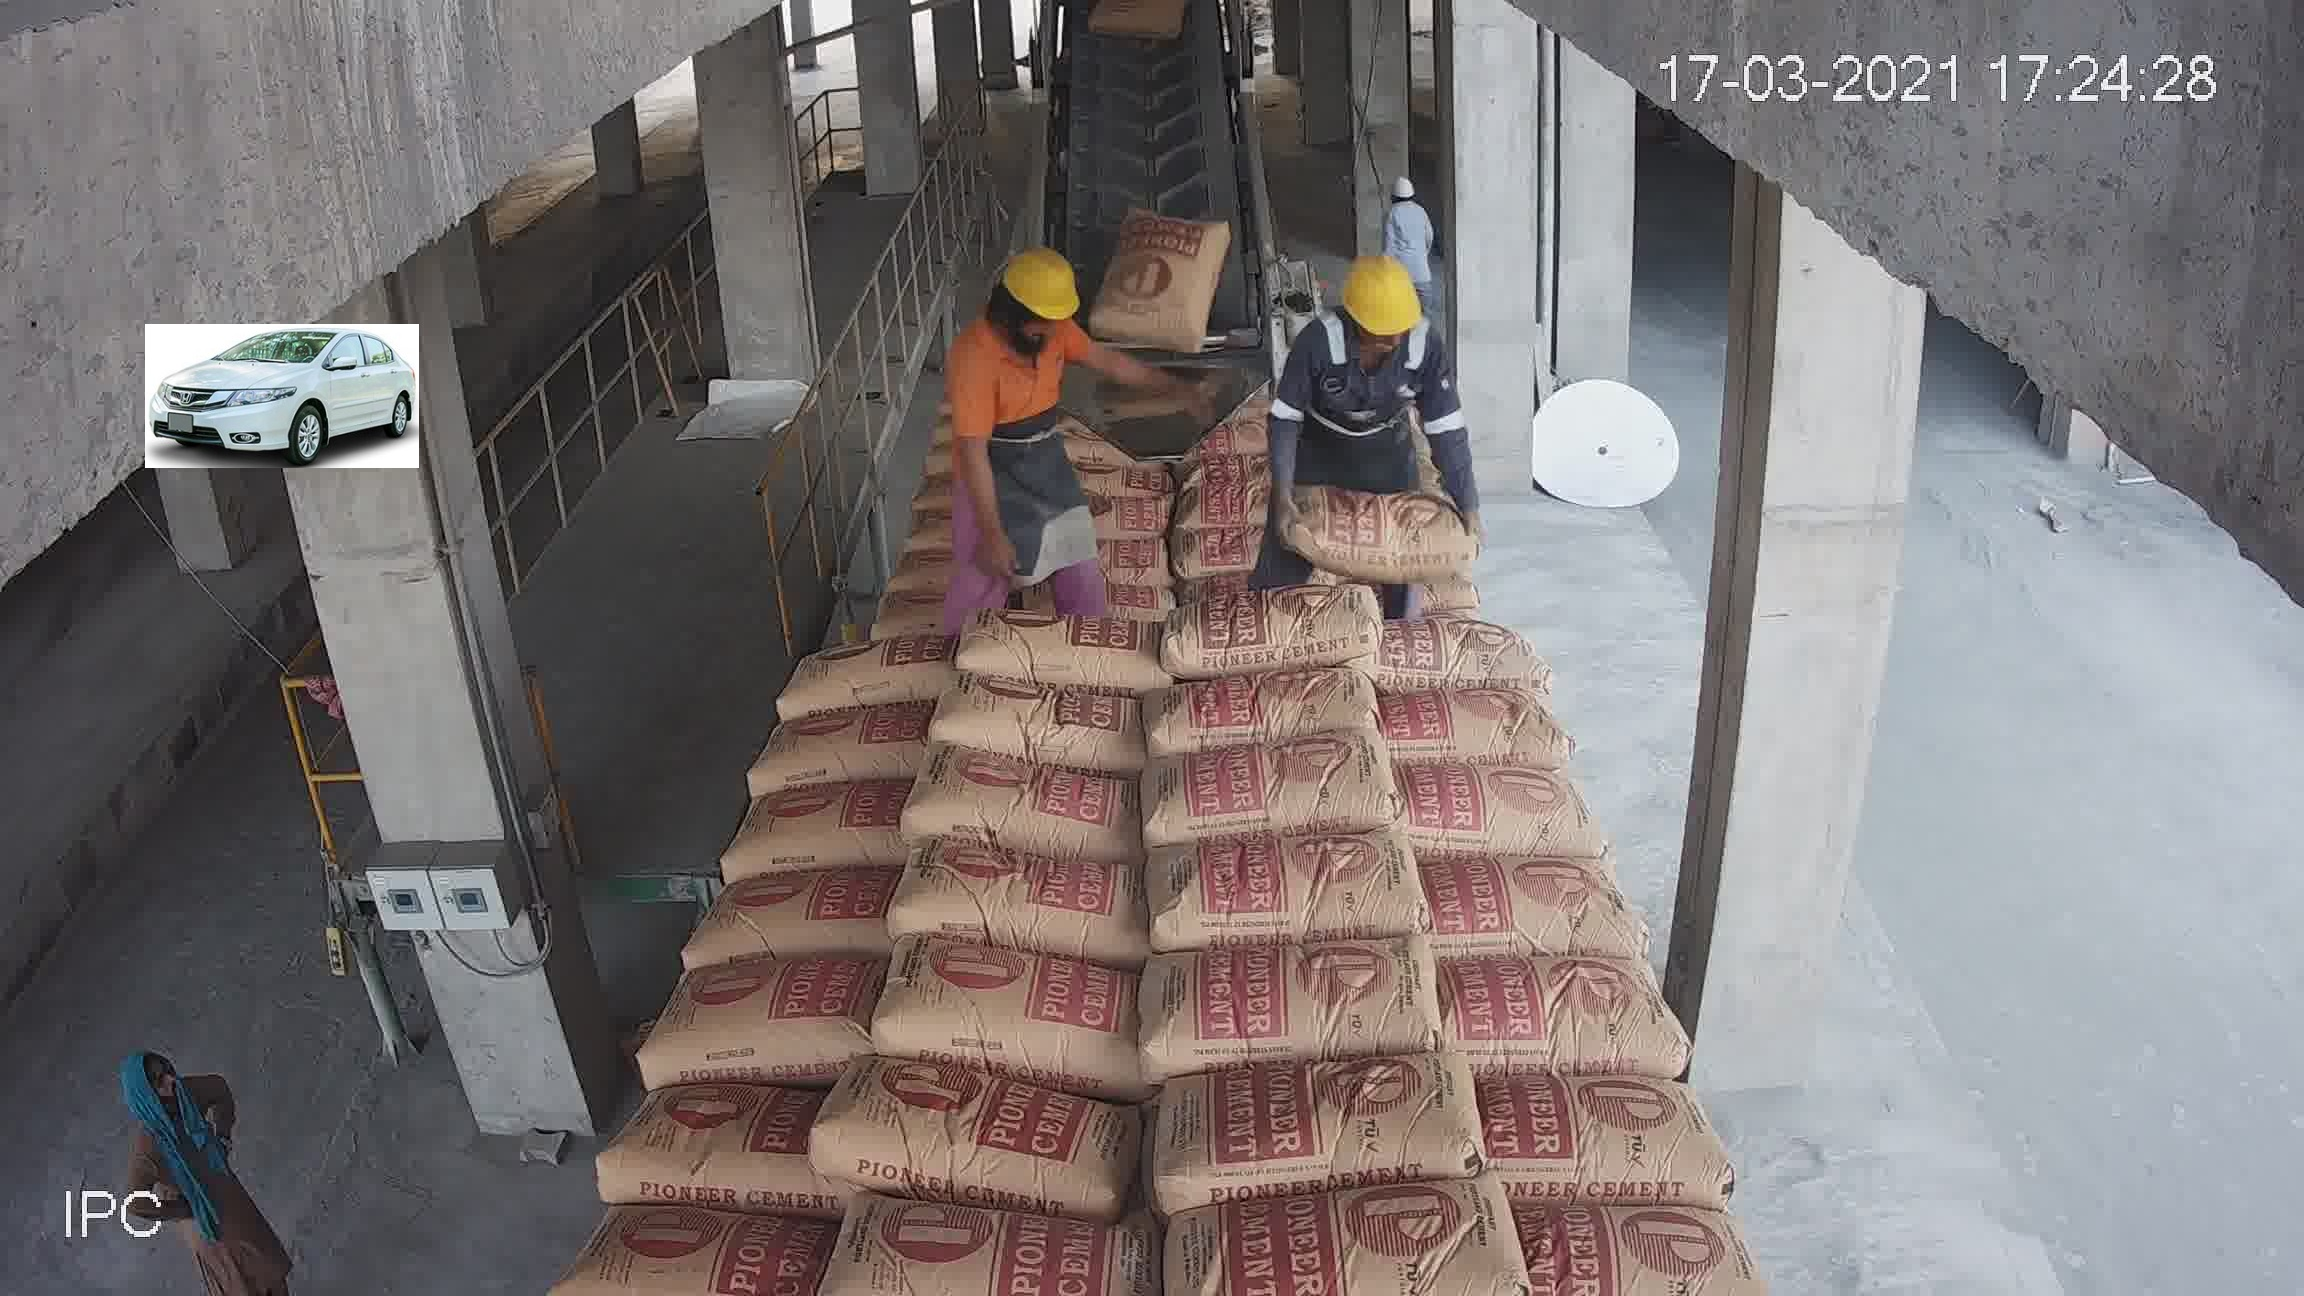bag: (1119, 277, 1204, 388), (1101, 33, 1204, 111)
bag_h: (1147, 1054, 1502, 1196), (1146, 1161, 1519, 1296), (824, 1051, 1138, 1195), (1119, 929, 1438, 1070), (1454, 1055, 1733, 1199), (635, 954, 904, 1097), (1442, 836, 1688, 970), (807, 1203, 1161, 1296), (880, 839, 1147, 956), (1440, 951, 1684, 1073), (590, 1071, 823, 1195), (889, 951, 1157, 1057), (1101, 658, 1397, 752), (1169, 829, 1424, 937), (1494, 1192, 1753, 1285), (668, 850, 885, 959), (1143, 739, 1412, 824), (1385, 745, 1589, 858), (704, 779, 908, 885), (1161, 581, 1378, 673), (877, 764, 1128, 839), (1356, 595, 1544, 688), (725, 715, 934, 799), (540, 1214, 820, 1275), (932, 674, 1150, 753), (1152, 536, 1367, 611), (1396, 674, 1570, 756), (956, 612, 1161, 680), (1347, 549, 1524, 627), (984, 554, 1158, 628), (785, 647, 964, 715), (834, 521, 978, 601), (1253, 380, 1426, 445), (1304, 419, 1457, 487), (1185, 492, 1351, 552), (1146, 462, 1320, 517), (810, 589, 970, 649), (987, 497, 1128, 565), (1337, 521, 1513, 570), (862, 445, 997, 506), (1347, 470, 1492, 521), (834, 486, 970, 540), (1002, 430, 1165, 475), (1288, 361, 1415, 411), (1010, 476, 1144, 517), (1261, 348, 1394, 388), (1310, 315, 1397, 356)
belt: (1048, 33, 1256, 301)
